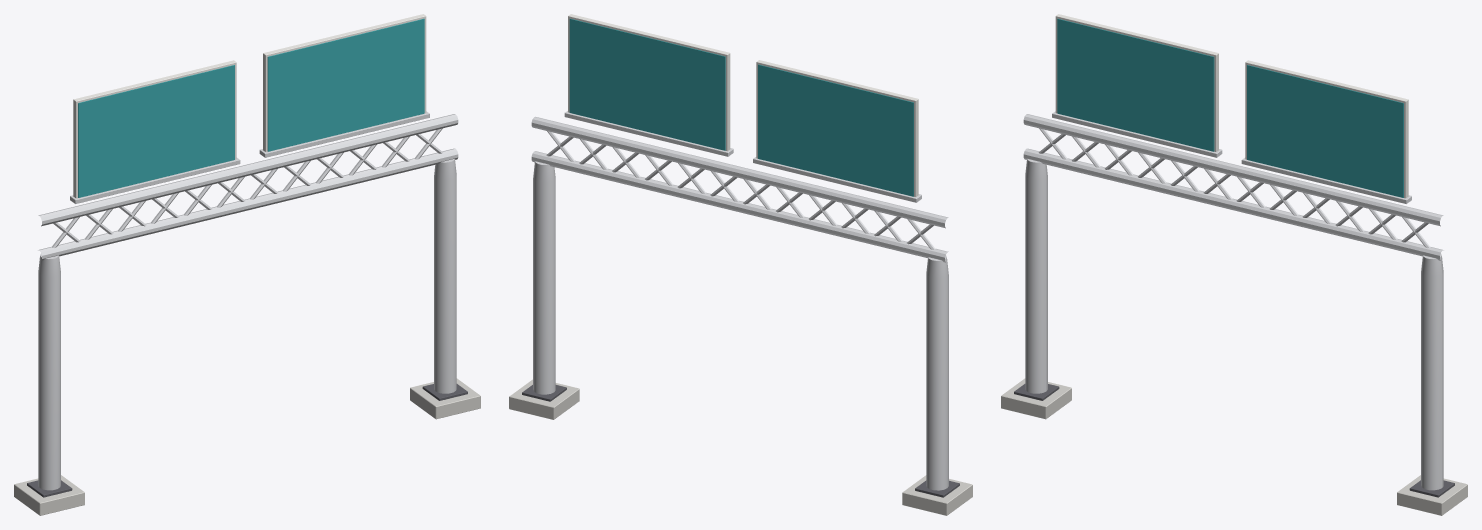
File: motorway-services-and-truck-park-direction-sign-gantry-1f661987__35970.glb
The picture shows the model from 3 angles, left to right: view 1: azimuth 30°, elevation 25°; view 2: azimuth 150°, elevation 25°; view 3: azimuth 330°, elevation 25°; orthographic projection.
Parts seen in each view (by area): view 1: direction-sign-gantry; view 2: direction-sign-gantry; view 3: direction-sign-gantry.
Boxes of the visible parts, x1=… form: direction-sign-gantry: x1=14, y1=14, x2=480, y2=515; direction-sign-gantry: x1=509, y1=14, x2=972, y2=515; direction-sign-gantry: x1=1001, y1=14, x2=1467, y2=515.
Size of the model in its own units: 10.7 by 9.2 by 1.1.
